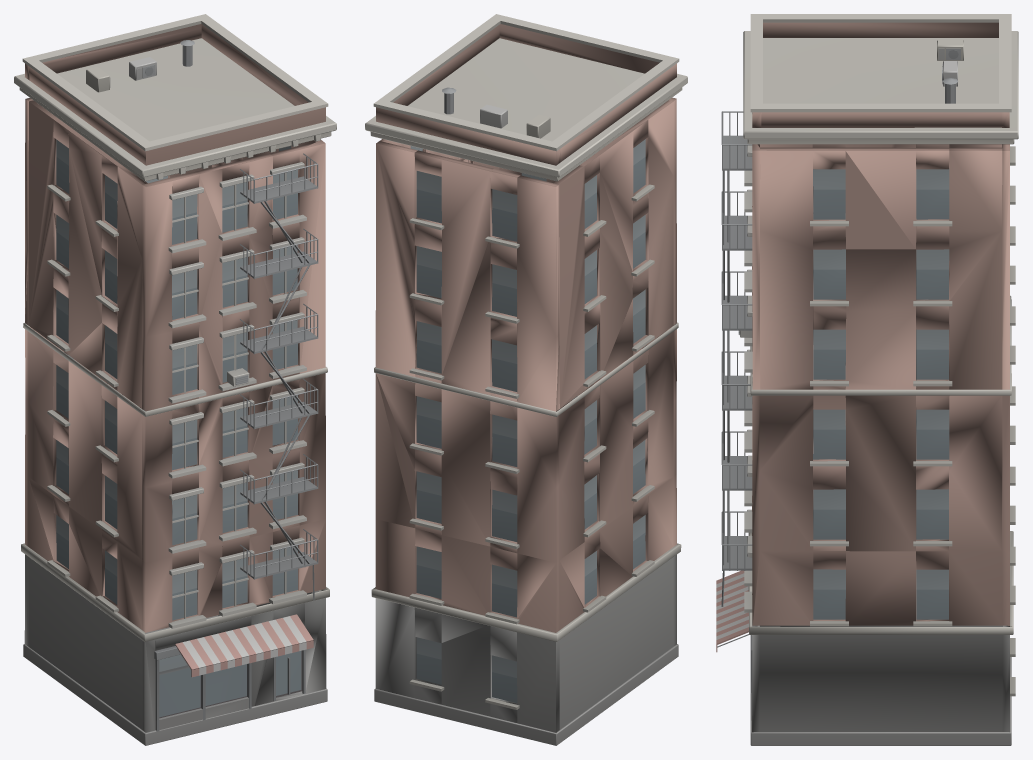
File: tenement.glb
The picture shows the model from 3 angles, left to right: view 1: azimuth 30°, elevation 25°; view 2: azimuth 150°, elevation 25°; view 3: azimuth 270°, elevation 25°; orthographic projection. The views are drawn at different scales.
Bounding box in the file's own units: 8 × 23.7 × 10.11.
